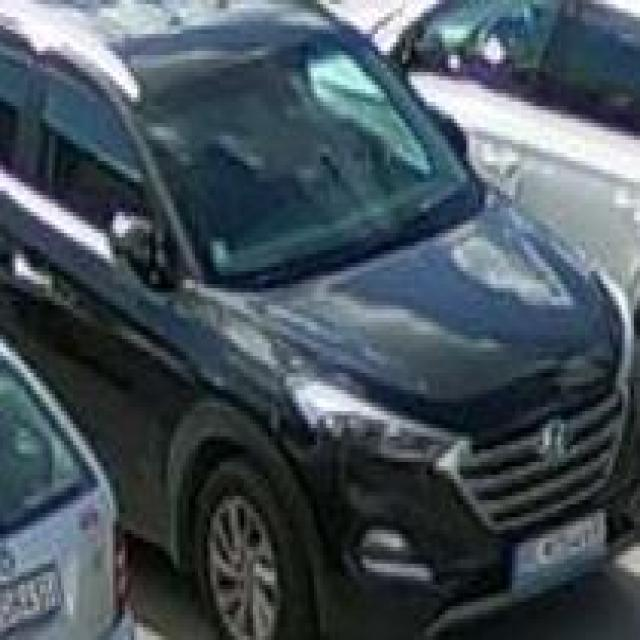Car: (17, 22, 630, 626)
